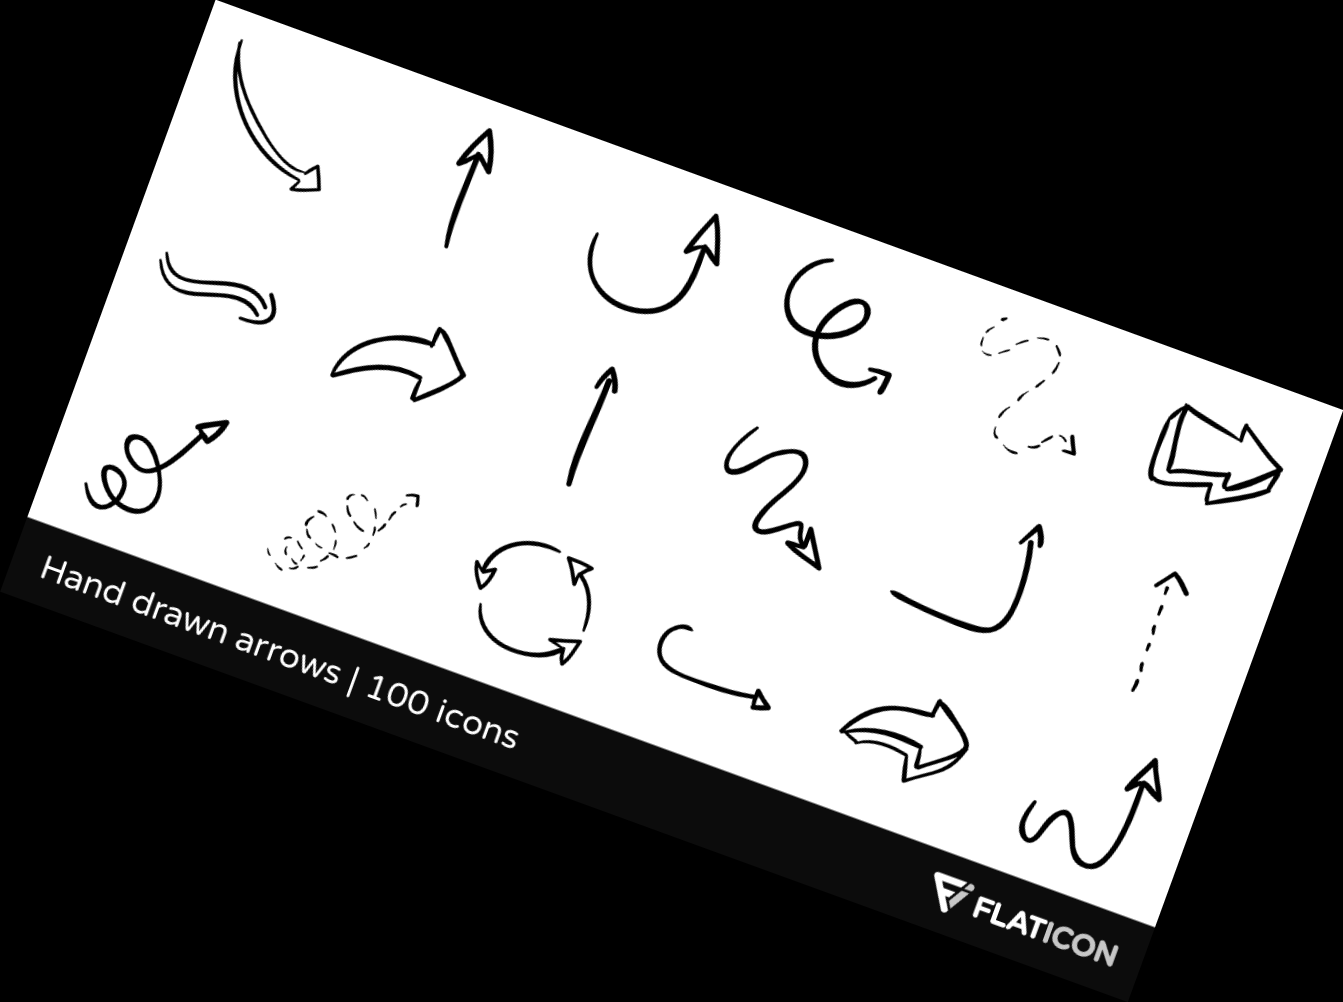arrow: (1128, 398, 1291, 509), (823, 682, 983, 790), (376, 316, 472, 417), (233, 117, 326, 195), (443, 123, 504, 216), (668, 211, 727, 301), (203, 270, 285, 334), (1111, 753, 1166, 839), (578, 363, 627, 457), (1143, 569, 1197, 654), (693, 669, 778, 720), (768, 520, 834, 578), (504, 632, 592, 672), (467, 538, 530, 592), (166, 416, 230, 466), (833, 360, 895, 408), (1011, 521, 1051, 594), (559, 555, 602, 621), (384, 490, 422, 536)
